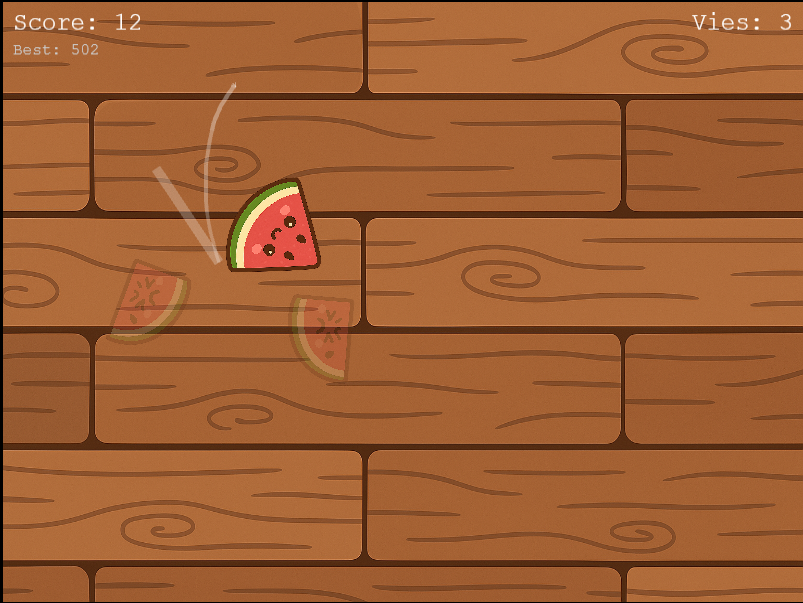fruit: (220, 175, 327, 276)
